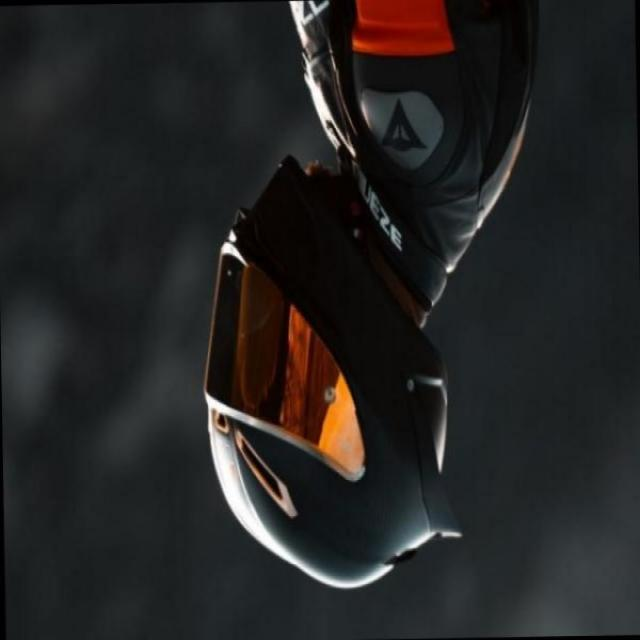Helmet: (173, 154, 477, 547)
